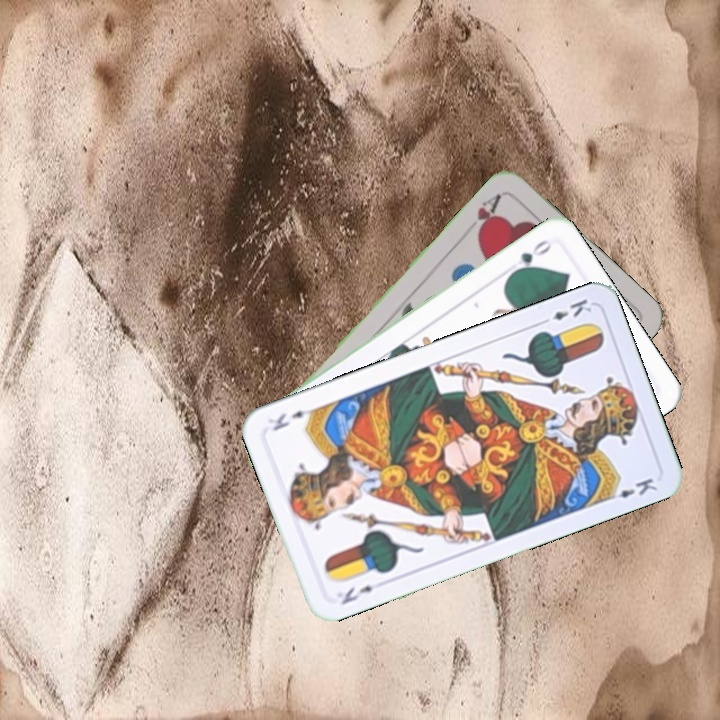EK: (536, 295, 594, 328), (337, 581, 376, 608)
GO: (505, 235, 554, 278)
HA: (471, 189, 504, 241)
